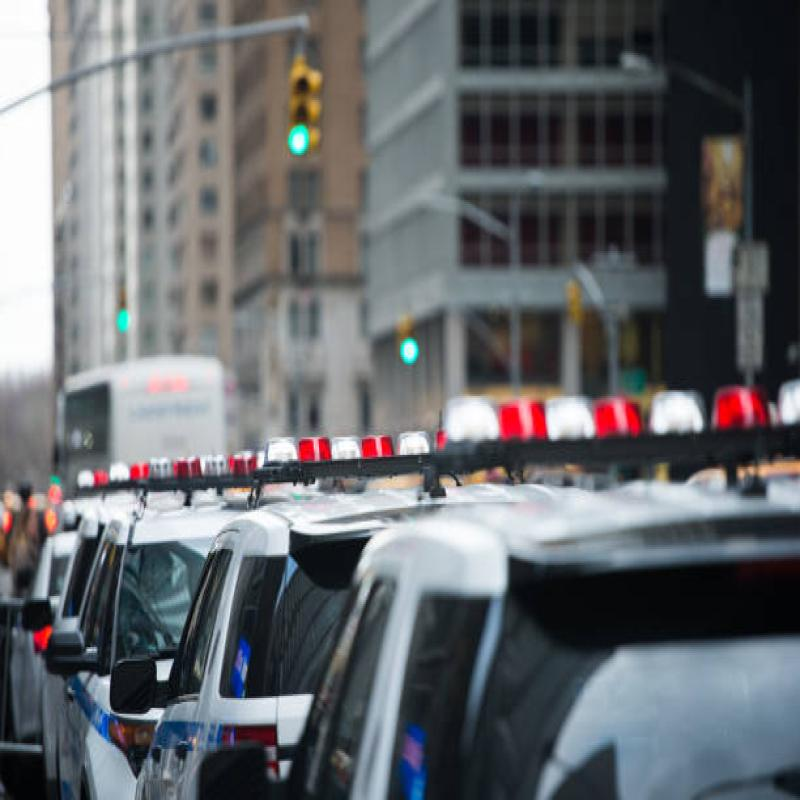AmbulanceSiren: (414, 350, 779, 474), (262, 423, 472, 501), (95, 446, 259, 501)
